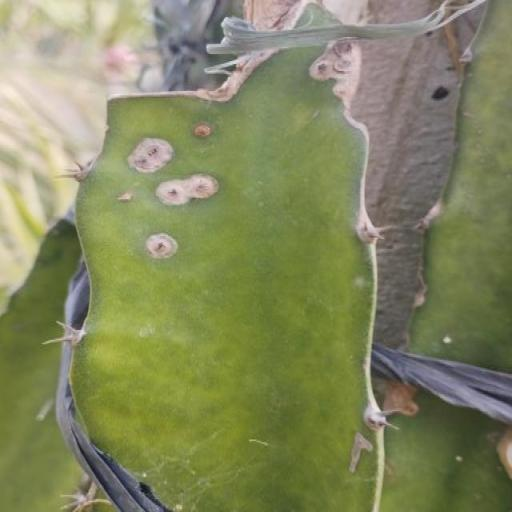stemcanker: (301, 103, 334, 135)
